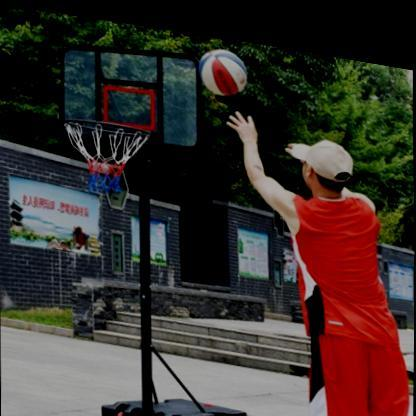basketball: (197, 37, 247, 92)
rim: (66, 112, 153, 198)
